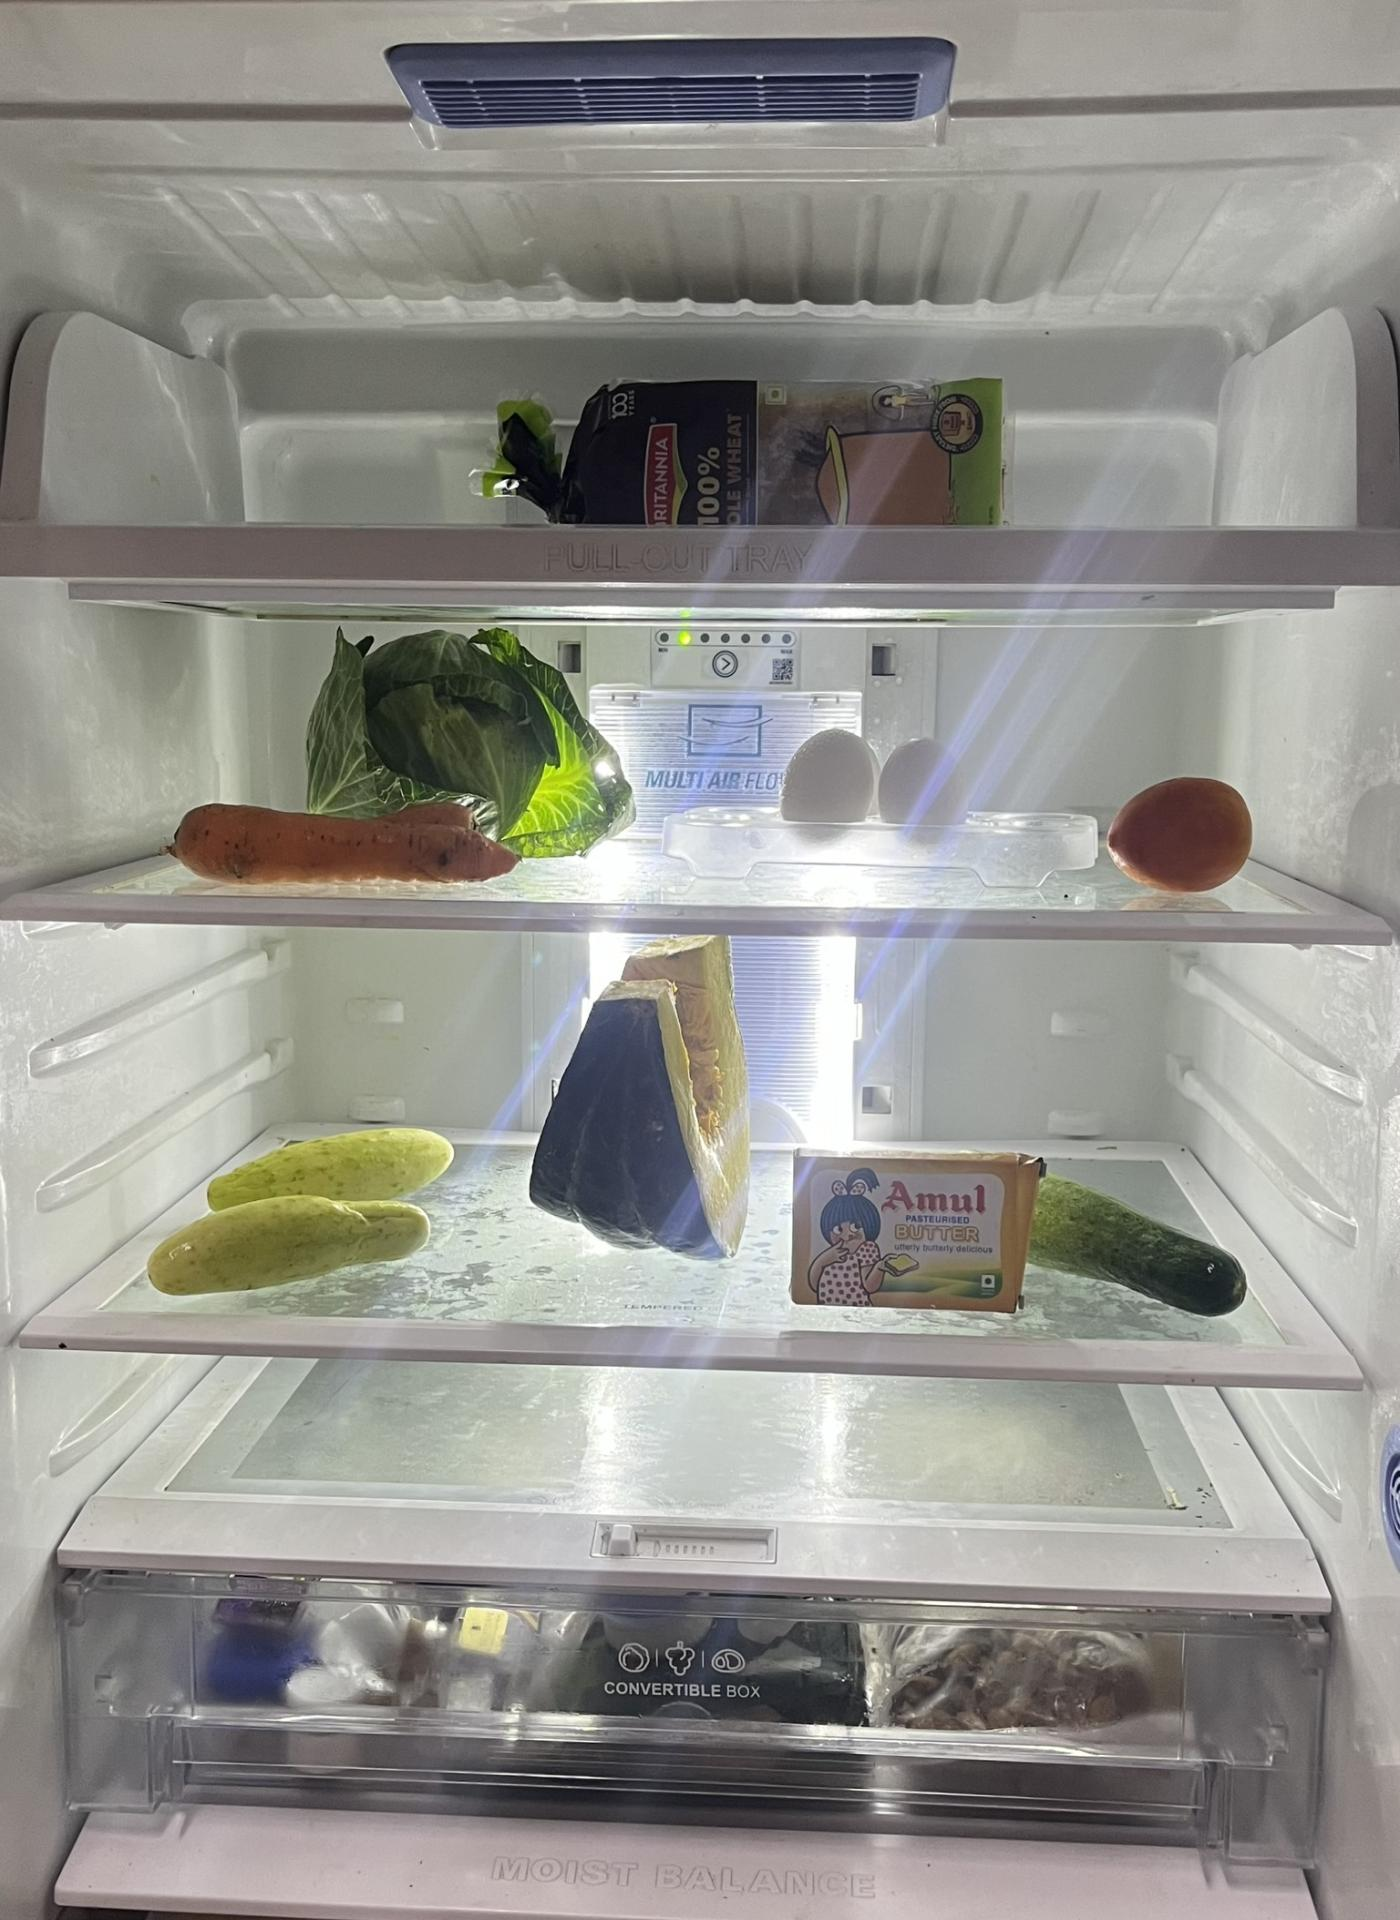bread: (499, 362, 1011, 523)
butter: (790, 1146, 1039, 1321)
cabbage: (312, 631, 614, 838)
carrots: (165, 800, 538, 894)
cucumber: (133, 1125, 455, 1300), (1030, 1161, 1260, 1324)
egg: (784, 727, 972, 853)
pumpkin: (523, 938, 756, 1254)
tomato: (1102, 774, 1266, 891)
